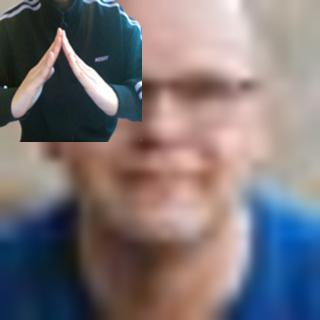HOME: (11, 25, 117, 116)
